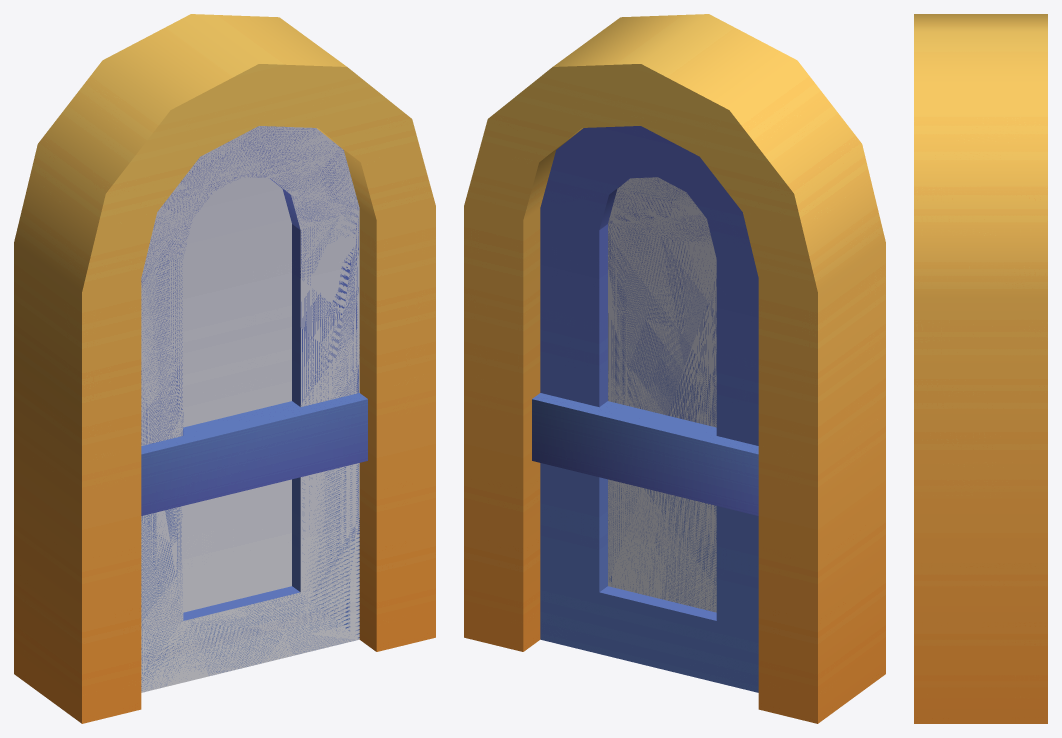
File: door-rotate.glb
3 views of the same model, side by side, from view 1: azimuth 30°, elevation 25°; view 2: azimuth 150°, elevation 25°; view 3: azimuth 270°, elevation 25° (orthographic).
Visible parts, largest first — view 1: door-rotate, door; view 2: door-rotate, door; view 3: door-rotate.
Boxes of the visible parts, x1=… form: door-rotate: x1=14, y1=14, x2=435, y2=723; door: x1=141, y1=126, x2=367, y2=692; door-rotate: x1=464, y1=14, x2=885, y2=723; door: x1=532, y1=126, x2=758, y2=692; door-rotate: x1=914, y1=14, x2=1047, y2=723.
Size of the model in its own units: 0.6 by 1 by 0.2.
Materials: 1 (1 with a texture image).
